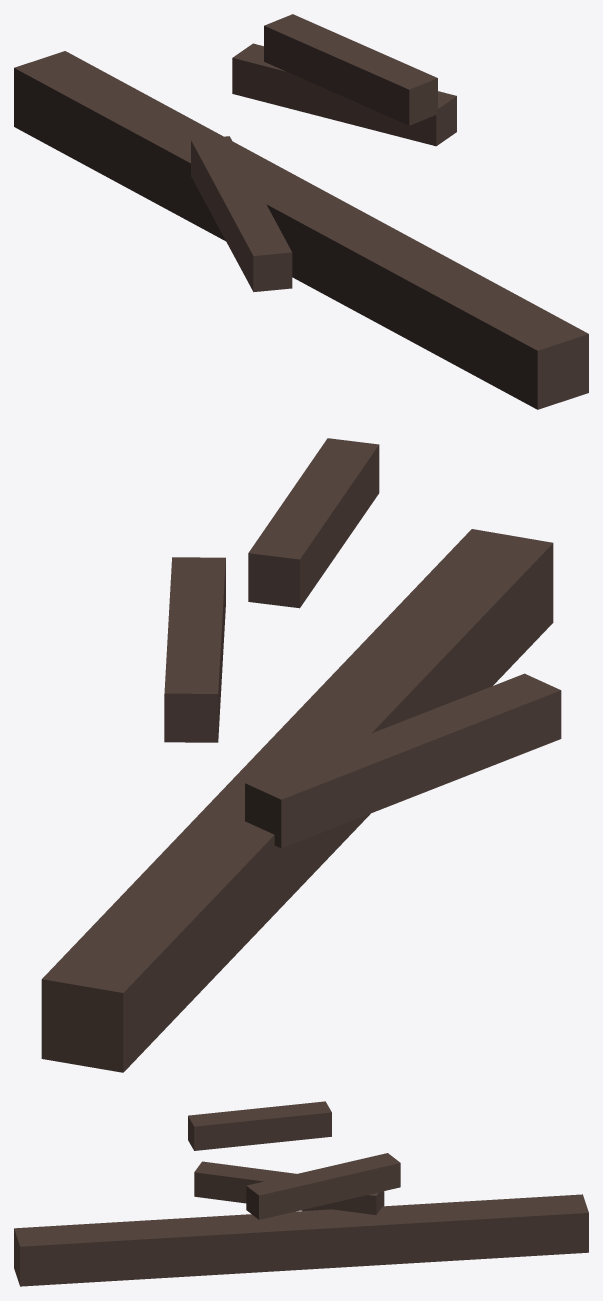
File: EXTW_EastTree_00.glb
The picture shows the model from 3 angles, top to bottom: view 1: azimuth 30°, elevation 25°; view 2: azimuth 150°, elevation 25°; view 3: azimuth 270°, elevation 25°; orthographic projection. The views are drawn at different scales.
Visible parts, largest first — view 1: EXTW_EastTree_00; view 2: EXTW_EastTree_00; view 3: EXTW_EastTree_00.
Boxes of the visible parts, <box> form: EXTW_EastTree_00: <box>14,14,588,409</box>; EXTW_EastTree_00: <box>41,438,561,1072</box>; EXTW_EastTree_00: <box>14,1101,588,1286</box>.
Size of the model in its own units: 0.7843 by 0.689 by 2.35.
